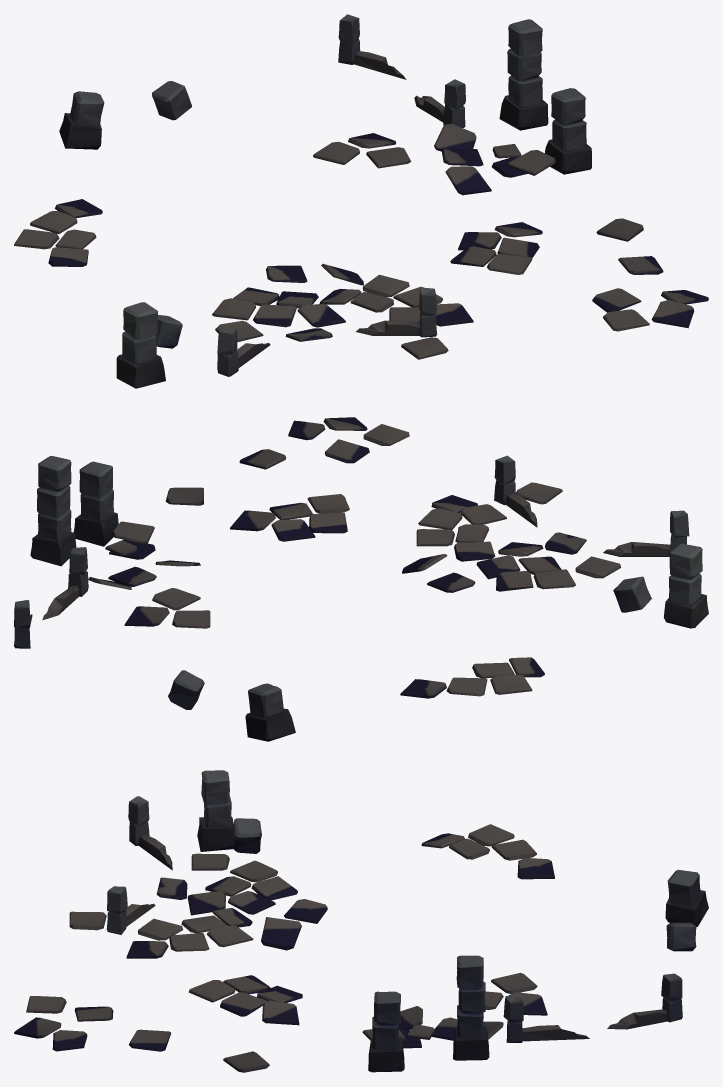
The model's file is Ground_04.FBX.
The picture shows the model from 3 angles, top to bottom: view 1: azimuth 30°, elevation 25°; view 2: azimuth 150°, elevation 25°; view 3: azimuth 270°, elevation 25°; orthographic projection. The views are drawn at different scales.
Visible parts, largest first — view 1: Ground_04; view 2: Ground_04; view 3: Ground_04.
Boxes of the visible parts, x1,y1,x2,y2 form: Ground_04: (14,14,708,388); Ground_04: (14,417,708,741); Ground_04: (14,770,708,1072).
Size of the model in its own units: 18.06 by 4.14 by 20.47.
